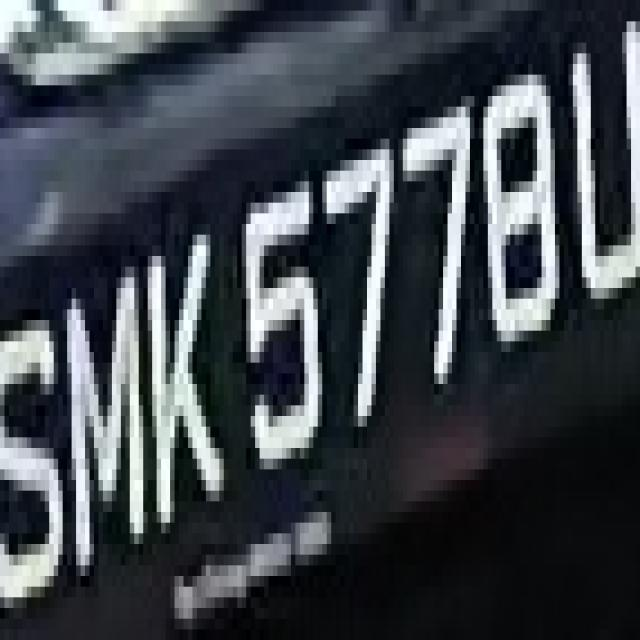5: (237, 182, 331, 502)
7: (389, 86, 479, 406), (322, 118, 398, 470)
8: (479, 64, 568, 373)
K: (148, 213, 228, 555)
L: (560, 21, 636, 320)
M: (63, 256, 152, 576)
S: (9, 267, 72, 629)
